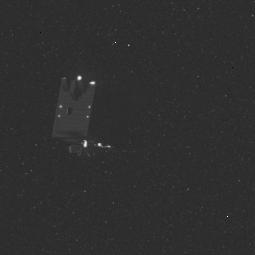proba_3_ocs: (48, 68, 119, 163)
